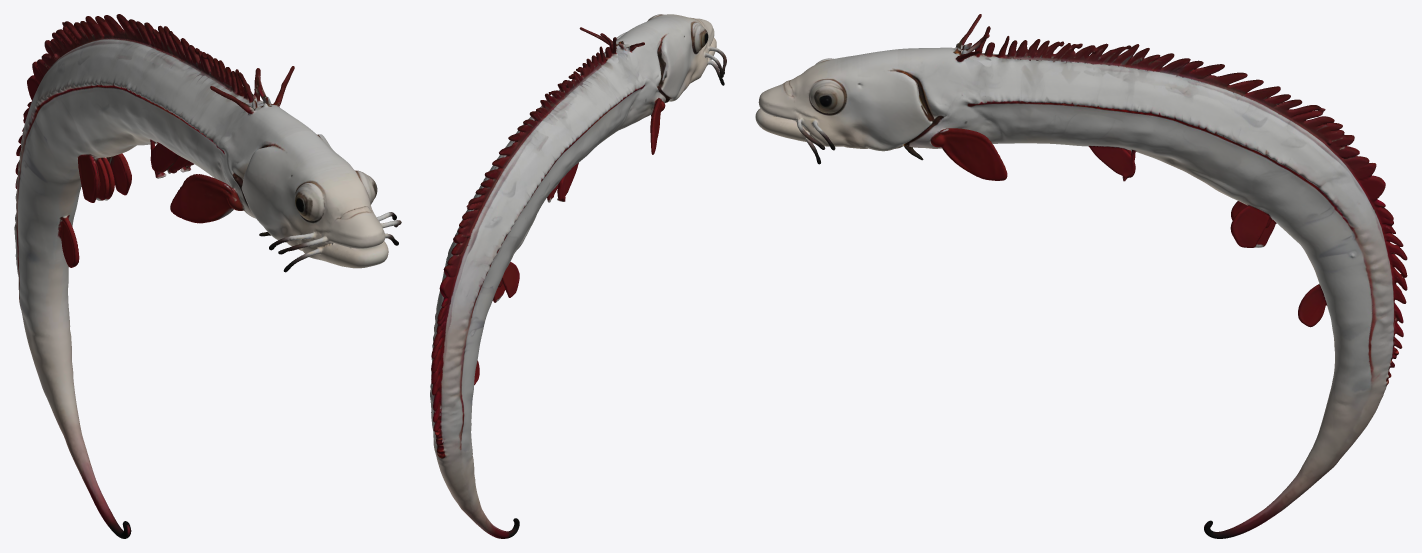
File: oar_c.glb
3 views of the same model, side by side, from view 1: azimuth 30°, elevation 25°; view 2: azimuth 150°, elevation 25°; view 3: azimuth 270°, elevation 25° (orthographic). The views are drawn at different scales.
Visible parts, largest first — view 1: tripo_node_cc2bfc0e-bd69-44cd-9b3f-54b00d029416; view 2: tripo_node_cc2bfc0e-bd69-44cd-9b3f-54b00d029416; view 3: tripo_node_cc2bfc0e-bd69-44cd-9b3f-54b00d029416.
Part boxes in pixels (x1,y1,x2,y2): tripo_node_cc2bfc0e-bd69-44cd-9b3f-54b00d029416: (14,14,401,538); tripo_node_cc2bfc0e-bd69-44cd-9b3f-54b00d029416: (430,14,726,538); tripo_node_cc2bfc0e-bd69-44cd-9b3f-54b00d029416: (755,14,1407,538).
Size of the model in its own units: 0.2185 by 0.8614 by 1.
1 material, 1 textured.
